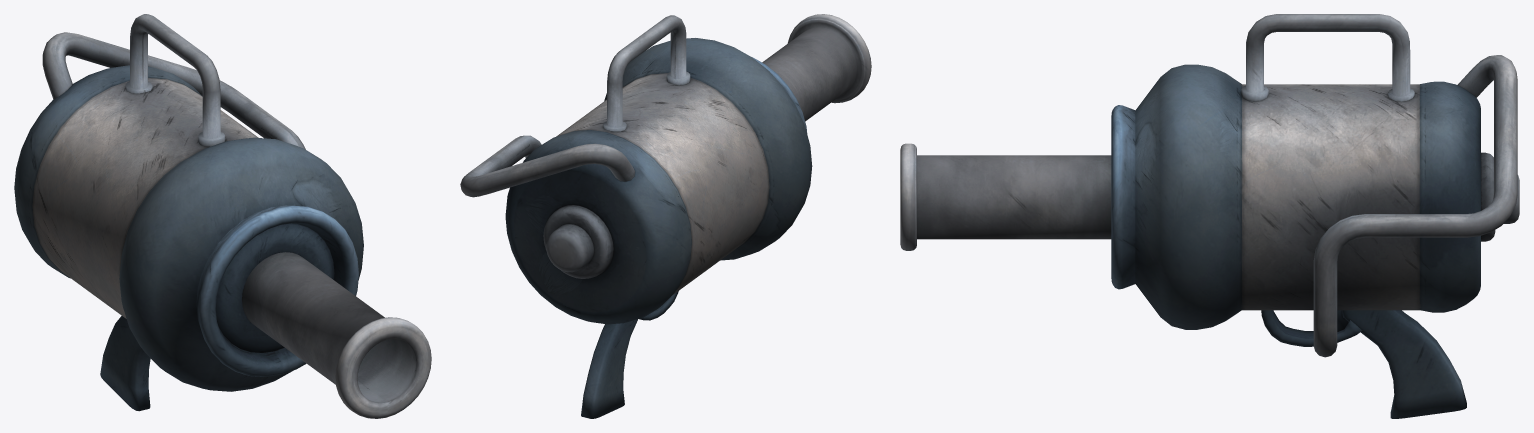
The model's file is WPN_Pistol.fbx.
3 renders of one model, left to right at view 1: azimuth 30°, elevation 25°; view 2: azimuth 150°, elevation 25°; view 3: azimuth 270°, elevation 25°, orthographic. The views are drawn at different scales.
Visible parts, largest first — view 1: WPN_Pistol; view 2: WPN_Pistol; view 3: WPN_Pistol.
Part boxes in pixels (x1,y1,x2,y2): WPN_Pistol: (14, 14, 431, 418); WPN_Pistol: (460, 14, 871, 418); WPN_Pistol: (900, 14, 1519, 418).
Bounding box in the file's own units: 27.95 × 42.38 × 59.31.
